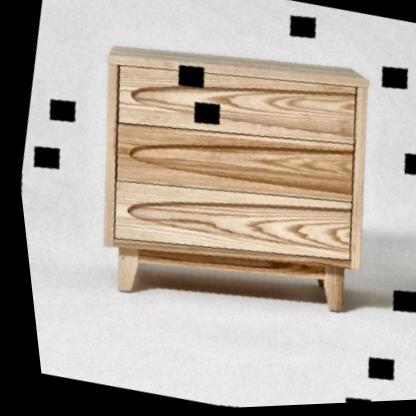Nightstand: (64, 20, 400, 320)
